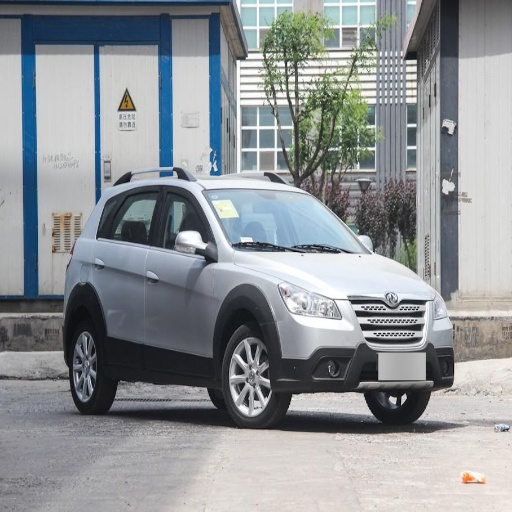front_bumper: (276, 295, 452, 393)
front_right_door: (146, 186, 217, 372)
front_right_light: (279, 281, 341, 318)
